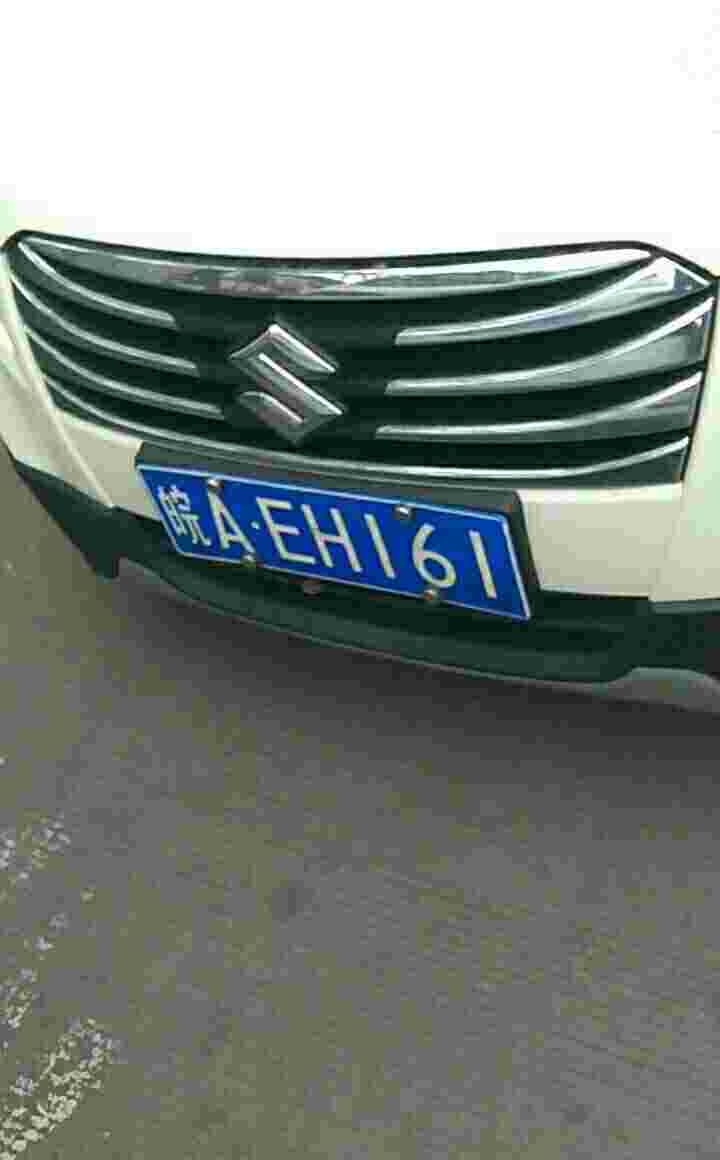license_plate: (124, 459, 545, 618)
